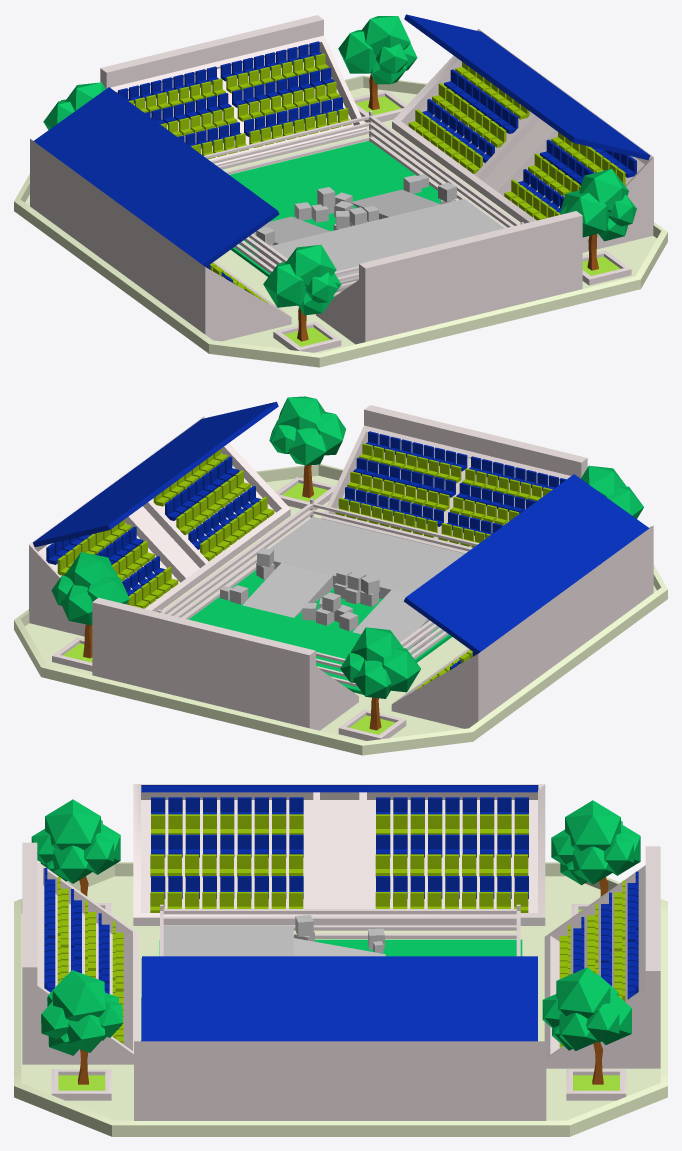
File: training_ground.obj
The picture shows the model from 3 angles, top to bottom: view 1: azimuth 30°, elevation 25°; view 2: azimuth 150°, elevation 25°; view 3: azimuth 270°, elevation 25°; orthographic projection. The views are drawn at different scales.
Parts seen in each view (by area): view 1: Stadium.001_Mesh, PLATFORM_Cube.002, RAMP1_Cube, RAMP2_Cube.001; view 2: Stadium.001_Mesh, PLATFORM_Cube.002, RAMP1_Cube, RAMP2_Cube.001; view 3: Stadium.001_Mesh, PLATFORM_Cube.002, RAMP2_Cube.001.
Part boxes in pixels (<box>): Stadium.001_Mesh: <box>14,14,667,367</box>; PLATFORM_Cube.002: <box>258,199,504,292</box>; RAMP1_Cube: <box>352,189,440,219</box>; RAMP2_Cube.001: <box>253,216,330,245</box>; Stadium.001_Mesh: <box>14,396,667,755</box>; PLATFORM_Cube.002: <box>269,516,464,598</box>; RAMP1_Cube: <box>242,563,332,617</box>; RAMP2_Cube.001: <box>352,590,429,642</box>; Stadium.001_Mesh: <box>14,784,667,1136</box>; PLATFORM_Cube.002: <box>163,926,293,956</box>; RAMP2_Cube.001: <box>293,938,385,956</box>.
Bounding box in the file's own units: 2136 × 518 × 2243.
